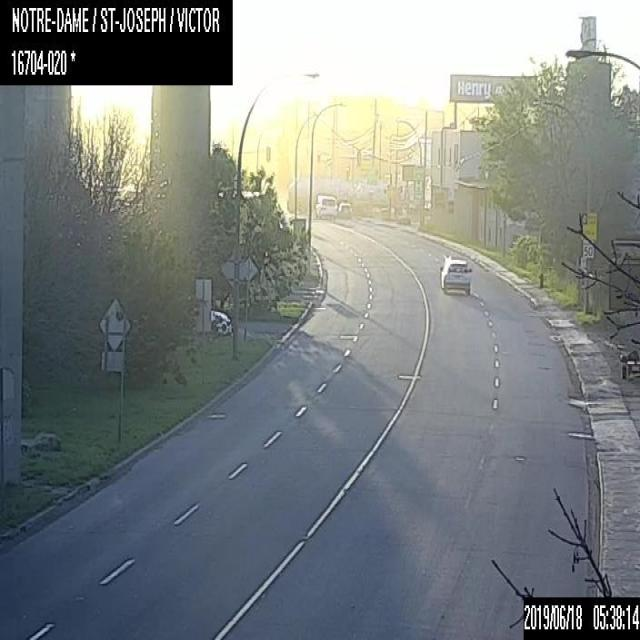construction: (610, 233, 639, 380)
vehicle: (439, 255, 471, 294), (210, 309, 231, 334), (315, 194, 336, 219), (338, 202, 351, 218)
